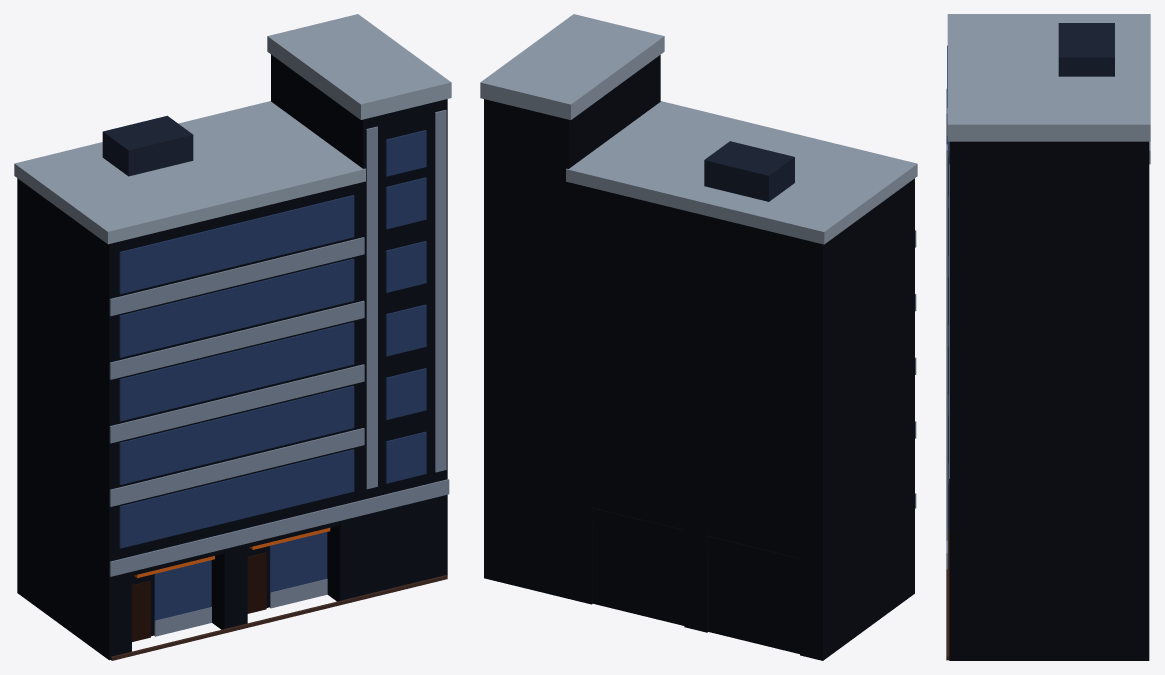
File: tradetower4.obj
The picture shows the model from 3 angles, left to right: view 1: azimuth 30°, elevation 25°; view 2: azimuth 150°, elevation 25°; view 3: azimuth 270°, elevation 25°; orthographic projection. The views are drawn at different scales.
Parts seen in each view (by area): view 1: block-glazing, block, marker, block-cap, spandrels, base-piers, marker-cap, marker-glazing, marker-fins, shopfronts, transom, roof-plant (+6 smaller); view 2: block, marker, block-cap, base-piers, base-back, marker-cap, roof-plant, base-heads; view 3: marker, marker-cap, block-cap, roof-plant, marker-fins, pavement, marker-glazing.
Boxes of the visible parts, x1,y1,x2,y2 form: block-glazing: [119, 195, 354, 548]; block: [17, 178, 362, 561]; marker: [271, 54, 447, 594]; block-cap: [14, 101, 365, 244]; spandrels: [109, 237, 364, 506]; base-piers: [17, 494, 362, 660]; marker-cap: [267, 14, 451, 119]; marker-glazing: [385, 130, 426, 483]; marker-fins: [366, 109, 446, 489]; shopfronts: [154, 532, 327, 621]; transom: [109, 479, 449, 576]; roof-plant: [102, 115, 193, 176]; block: [568, 178, 914, 561]; marker: [484, 55, 660, 598]; block-cap: [566, 101, 917, 244]; base-piers: [568, 495, 914, 660]; base-back: [592, 506, 799, 653]; marker-cap: [480, 14, 664, 119]; roof-plant: [704, 141, 794, 201]; base-heads: [592, 508, 799, 576]; marker: [949, 141, 1149, 660]; marker-cap: [947, 76, 1150, 141]; block-cap: [947, 14, 1150, 164]; roof-plant: [1058, 23, 1114, 76]; marker-fins: [946, 108, 947, 540]; pavement: [946, 479, 949, 660]; marker-glazing: [947, 135, 948, 529].
Bounding box in the file's own units: 6.9 × 9.5 × 3.27.
